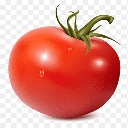tomato: (8, 26, 121, 118)
